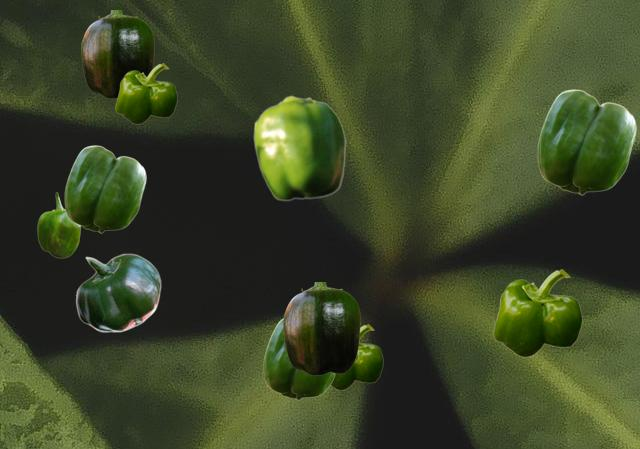bell_pepper: (537, 89, 635, 194), (253, 95, 345, 200), (493, 269, 581, 356), (64, 145, 145, 232), (283, 282, 359, 374), (75, 253, 160, 331), (81, 10, 153, 97), (263, 318, 335, 399), (115, 63, 176, 123), (331, 324, 382, 389), (37, 192, 80, 257)
